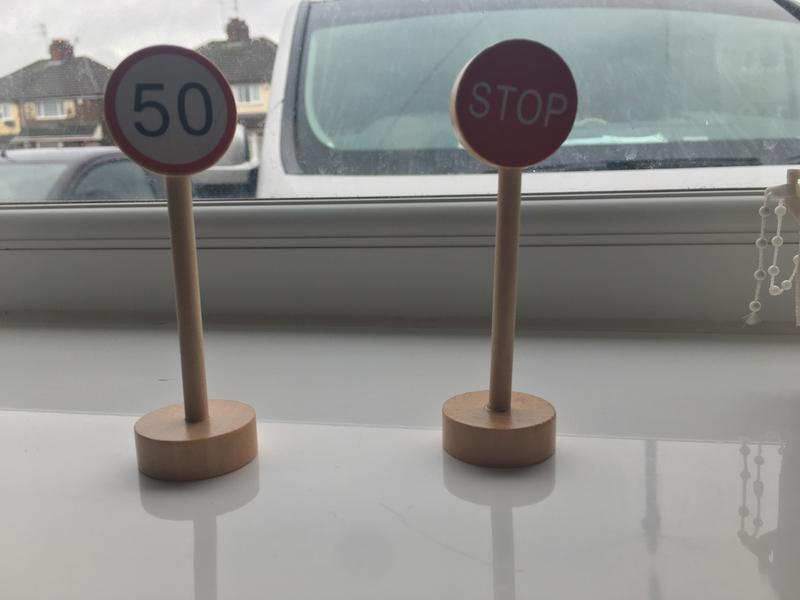Traffic_Sign_50: (104, 43, 237, 177)
Traffic_Sign_Stop: (456, 38, 579, 168)
